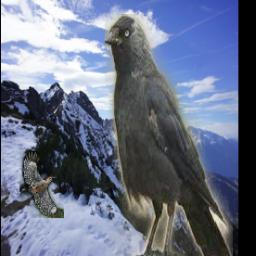Crow: (105, 14, 233, 256)
Woodpecker: (19, 151, 64, 218)
